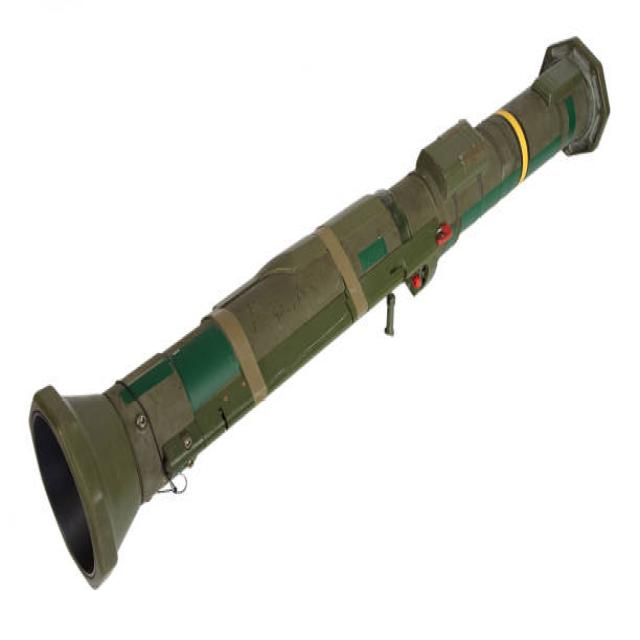bazooka: (22, 21, 615, 599)
